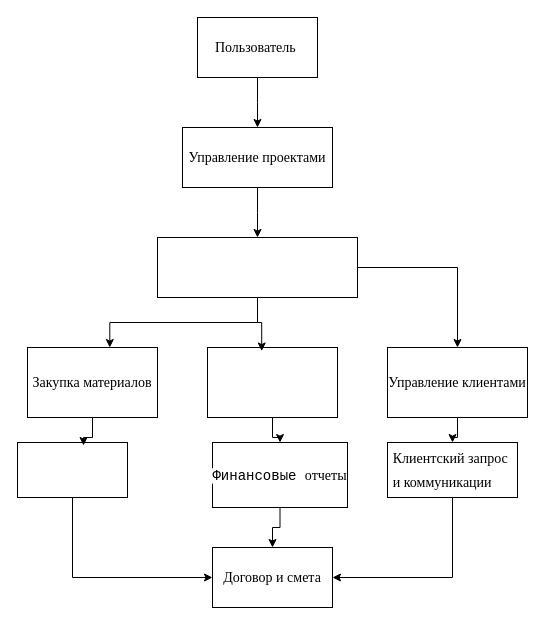
This 545x625 diagram has some shape labels left out. Here are the shapes that lost their labels. From the top down, the centre of each, then its label:
point 257,267: Планирование ресурсов
point 272,382: Финансовый учет
point 72,470: Учет поставок
